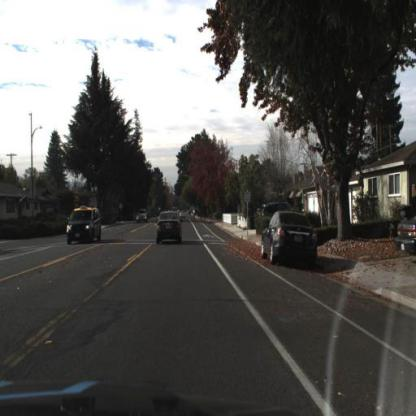car: (259, 206, 319, 264), (66, 202, 103, 248), (395, 207, 416, 264), (155, 211, 183, 246), (134, 205, 151, 229)
